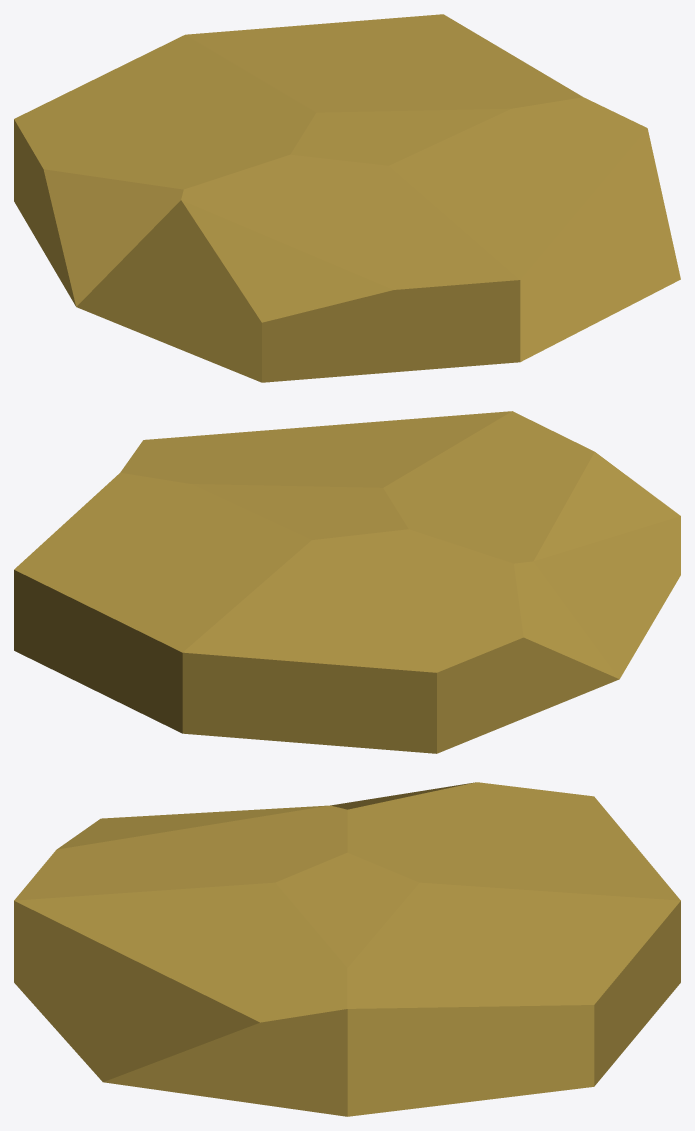
File: plitka5_2.fbx
3 renders of one model, top to bottom at view 1: azimuth 30°, elevation 25°; view 2: azimuth 150°, elevation 25°; view 3: azimuth 270°, elevation 25°, orthographic.
Visible parts, largest first — view 1: Cube.003; view 2: Cube.003; view 3: Cube.003.
Part boxes in pixels (x1=…): Cube.003: x1=14, y1=14, x2=680, y2=382; Cube.003: x1=14, y1=411, x2=680, y2=753; Cube.003: x1=14, y1=782, x2=680, y2=1116.
Size of the model in its own units: 26.7 by 4.63 by 28.03.
